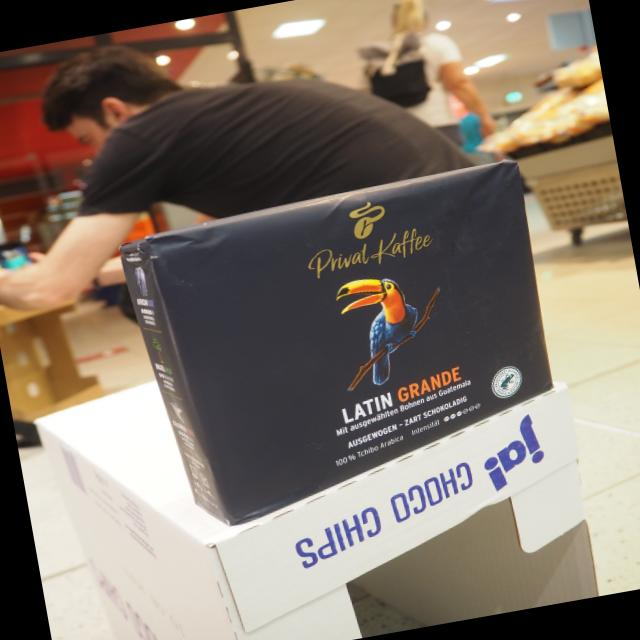LG Gemahlen: (140, 153, 556, 532)
